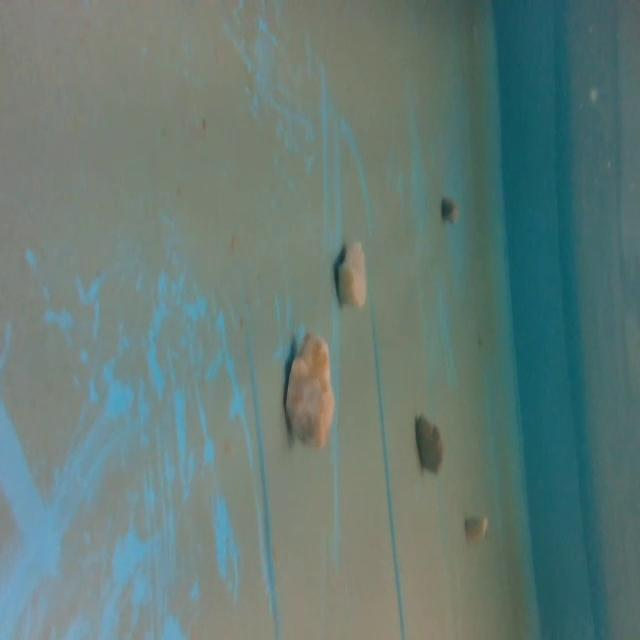rock: (285, 328, 336, 455), (333, 243, 371, 311), (412, 408, 449, 477)
